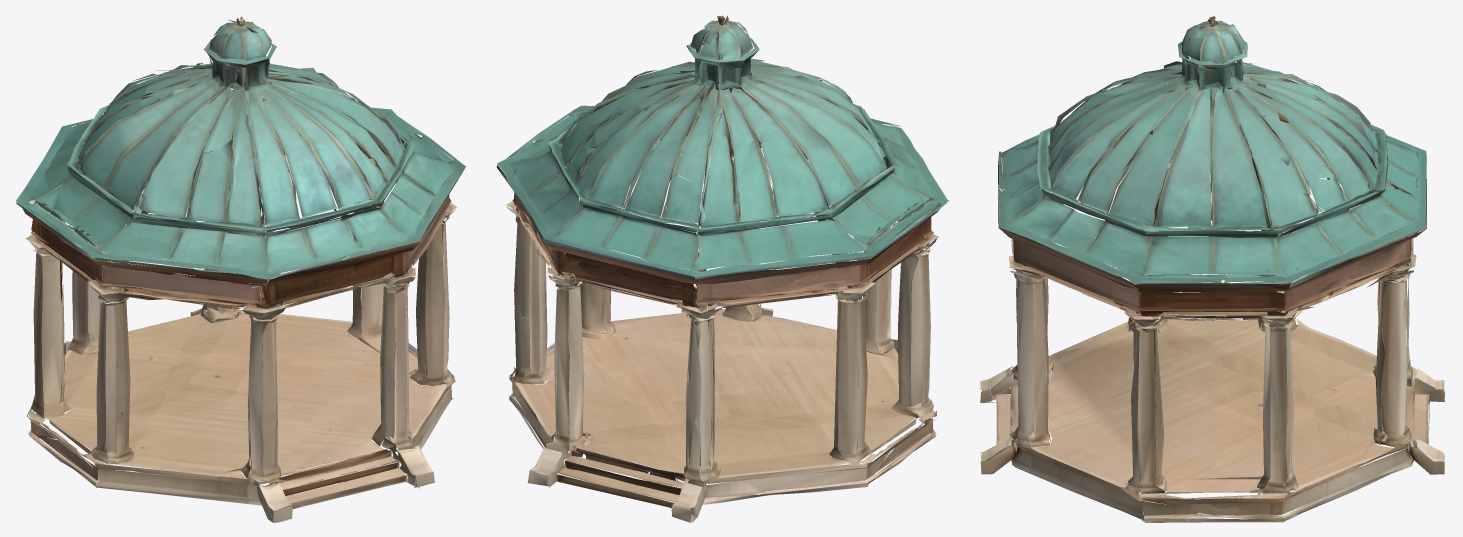
The model's file is unified--detail--bandstand.glb.
3 renders of one model, left to right at view 1: azimuth 30°, elevation 25°; view 2: azimuth 150°, elevation 25°; view 3: azimuth 270°, elevation 25°, orthographic. The views are drawn at different scales.
Visible parts, largest first — view 1: bandstand-0; view 2: bandstand-0; view 3: bandstand-0.
Part boxes in pixels (left/top/right/bottom): bandstand-0: left=16, top=16, right=465, bottom=522; bandstand-0: left=496, top=15, right=948, bottom=522; bandstand-0: left=980, top=16, right=1445, bottom=522.
Bounding box in the file's own units: 4.52 × 4.67 × 4.71.
1 material, 1 textured.
